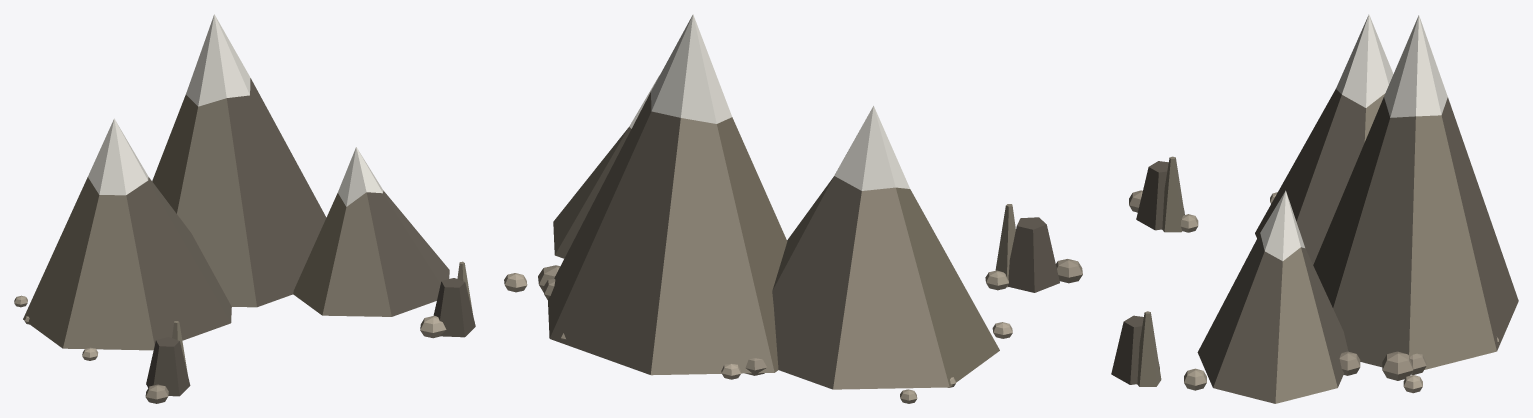
Rendered from terrain-mountain-1.glb.
3 views of the same model, side by side, from view 1: azimuth 30°, elevation 25°; view 2: azimuth 150°, elevation 25°; view 3: azimuth 270°, elevation 25° (orthographic). The views are drawn at different scales.
Visible parts, largest first — view 1: terrain-mountain-1.002, terrain-mountain-1.003, terrain-mountain-1.004, terrain-mountain-1.001, terrain-mountain-1, terrain-mountain-1.009, terrain-mountain-1.006; view 2: terrain-mountain-1.005, terrain-mountain-1, terrain-mountain-1.004, terrain-mountain-1.001, terrain-mountain-1.006, terrain-mountain-1.002, terrain-mountain-1.007, terrain-mountain-1.009, terrain-mountain-1.008; view 3: terrain-mountain-1, terrain-mountain-1.006, terrain-mountain-1.002, terrain-mountain-1.001, terrain-mountain-1.007, terrain-mountain-1.008.
Boxes of the visible parts, bbox=[...] form: terrain-mountain-1.002: bbox=[126, 95, 475, 396]; terrain-mountain-1.003: bbox=[63, 98, 391, 350]; terrain-mountain-1.004: bbox=[23, 94, 346, 348]; terrain-mountain-1.001: bbox=[88, 14, 383, 206]; terrain-mountain-1: bbox=[148, 78, 449, 322]; terrain-mountain-1.009: bbox=[82, 315, 446, 360]; terrain-mountain-1.006: bbox=[172, 261, 472, 372]; terrain-mountain-1.005: bbox=[650, 118, 949, 389]; terrain-mountain-1: bbox=[549, 111, 861, 389]; terrain-mountain-1.004: bbox=[717, 117, 999, 386]; terrain-mountain-1.001: bbox=[629, 14, 909, 190]; terrain-mountain-1.006: bbox=[548, 92, 1015, 337]; terrain-mountain-1.002: bbox=[1008, 217, 1059, 292]; terrain-mountain-1.007: bbox=[538, 259, 1082, 375]; terrain-mountain-1.009: bbox=[504, 273, 1012, 379]; terrain-mountain-1.008: bbox=[900, 270, 1008, 403]; terrain-mountain-1: bbox=[1213, 95, 1518, 403]; terrain-mountain-1.006: bbox=[1137, 94, 1496, 403]; terrain-mountain-1.002: bbox=[1111, 89, 1389, 387]; terrain-mountain-1.001: bbox=[1260, 14, 1447, 261]; terrain-mountain-1.007: bbox=[1129, 190, 1426, 380]; terrain-mountain-1.008: bbox=[1180, 214, 1206, 390].
Size of the model in its own units: 1.19 by 0.7906 by 0.9802.
